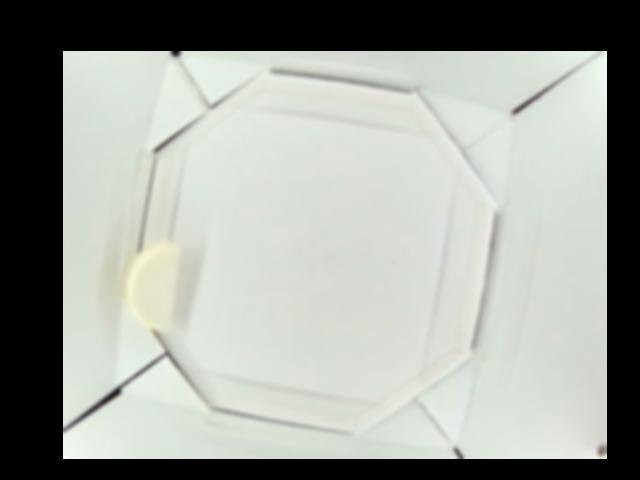Mooli: (122, 242, 180, 328)
